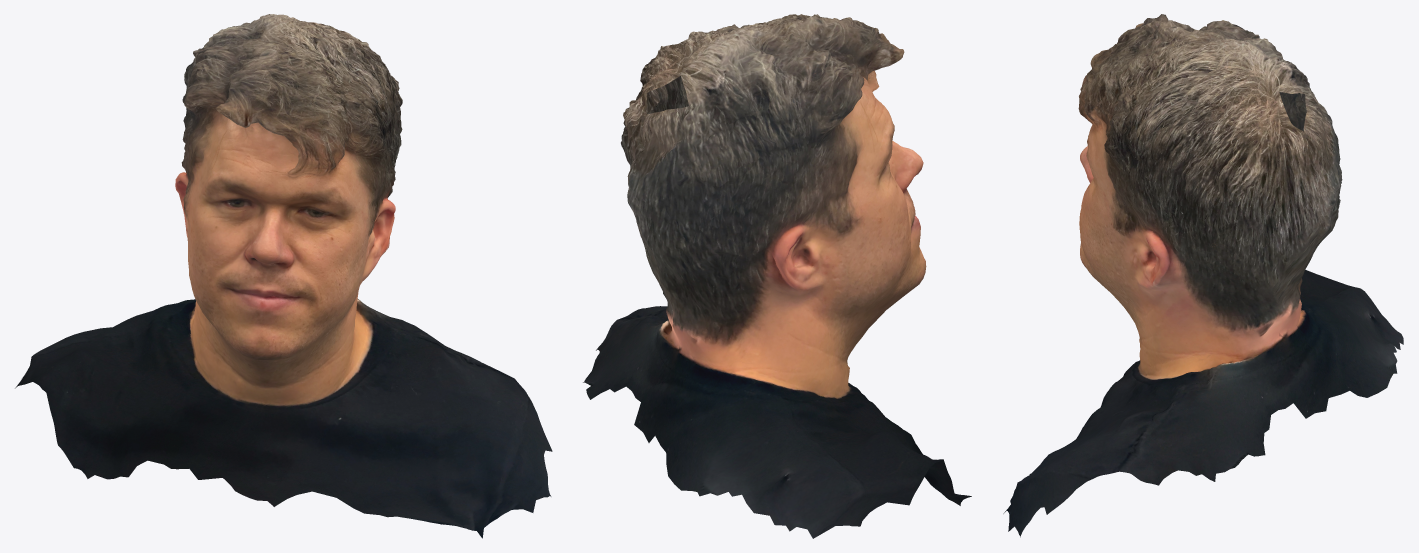
Rendered from human.glb.
3 views of the same model, side by side, from view 1: azimuth 30°, elevation 25°; view 2: azimuth 150°, elevation 25°; view 3: azimuth 270°, elevation 25° (orthographic). The views are drawn at different scales.
Visible parts, largest first — view 1: Object_2; view 2: Object_2; view 3: Object_2.
Part boxes in pixels (left/top/right/bottom): Object_2: left=15, top=14, right=552, bottom=538; Object_2: left=583, top=14, right=971, bottom=538; Object_2: left=1003, top=14, right=1403, bottom=537.
Bounding box in the file's own units: 227 × 253 × 213.
1 material, 1 textured.
